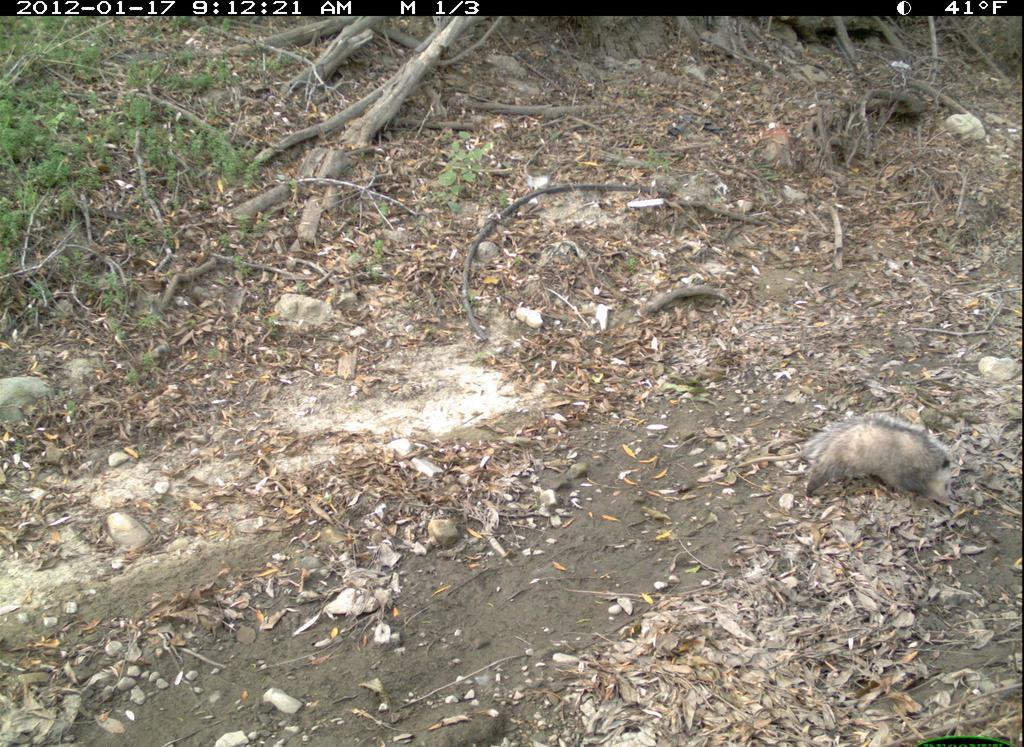opossum: (775, 401, 993, 557)
